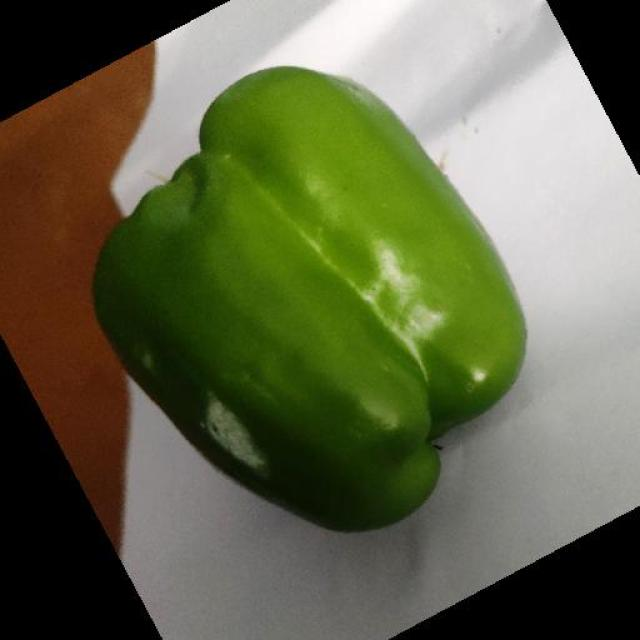Stale_Capsicum: (131, 322, 422, 522)
